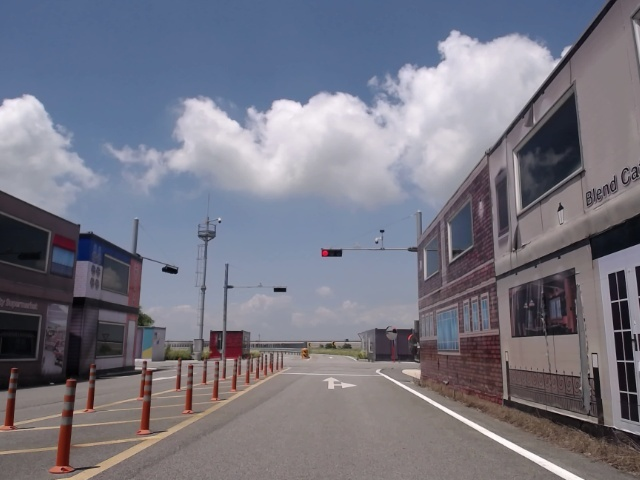red_3: (320, 249, 343, 257)
